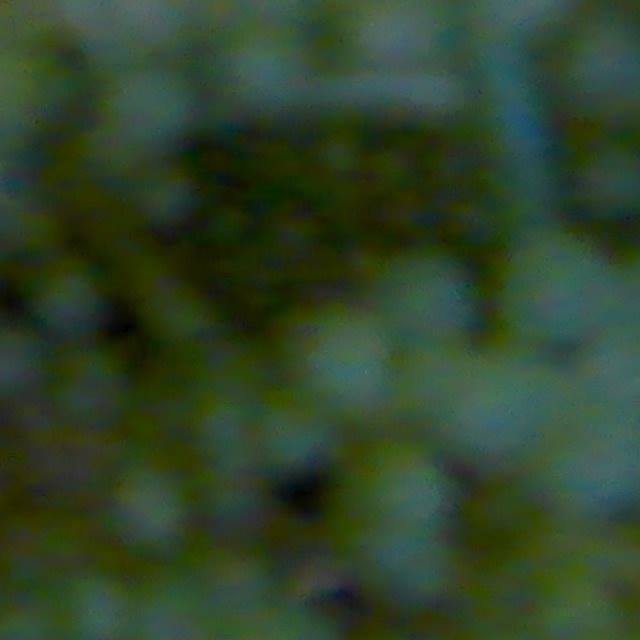SeaGrape: (324, 442, 450, 564), (504, 237, 621, 346), (374, 248, 472, 350), (289, 321, 394, 416), (219, 28, 326, 115), (102, 60, 198, 146), (343, 0, 452, 71), (562, 16, 640, 113), (24, 257, 115, 340), (238, 391, 325, 475), (106, 455, 185, 547), (53, 345, 131, 429), (61, 570, 141, 640), (0, 59, 67, 138), (579, 141, 640, 219), (135, 165, 196, 228)
